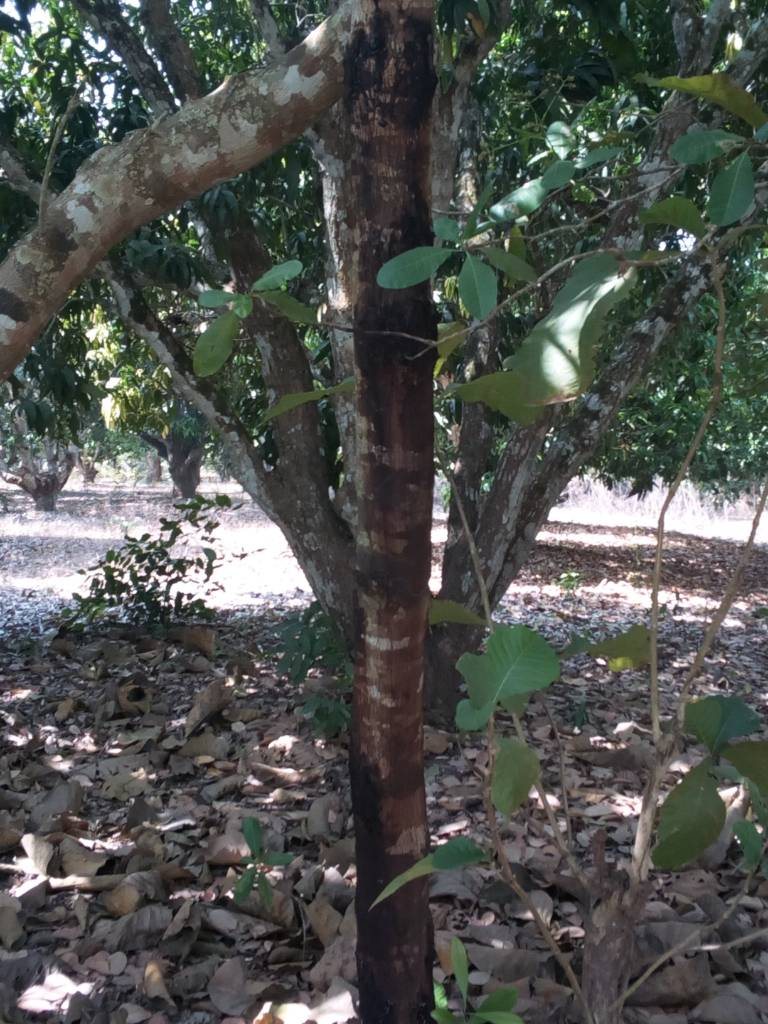Gommose: (346, 38, 441, 383), (352, 736, 390, 1024)
